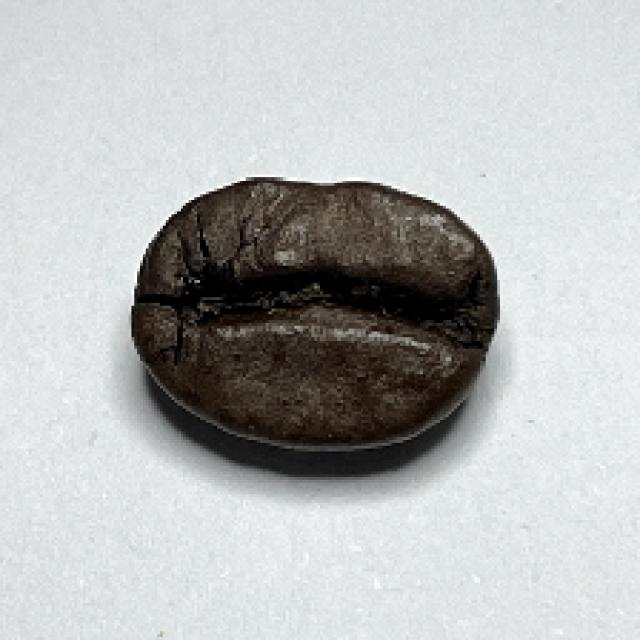bean: (124, 175, 502, 451)
